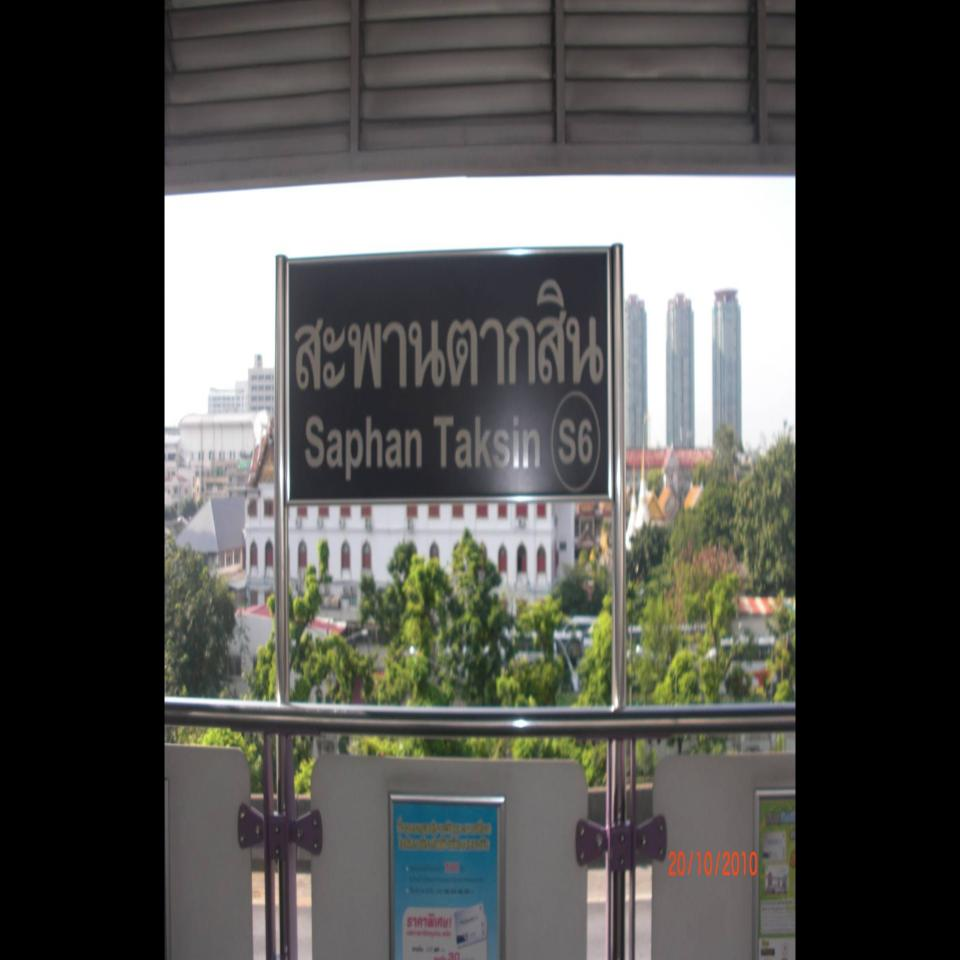Saphan Taksin: (284, 245, 614, 504)
